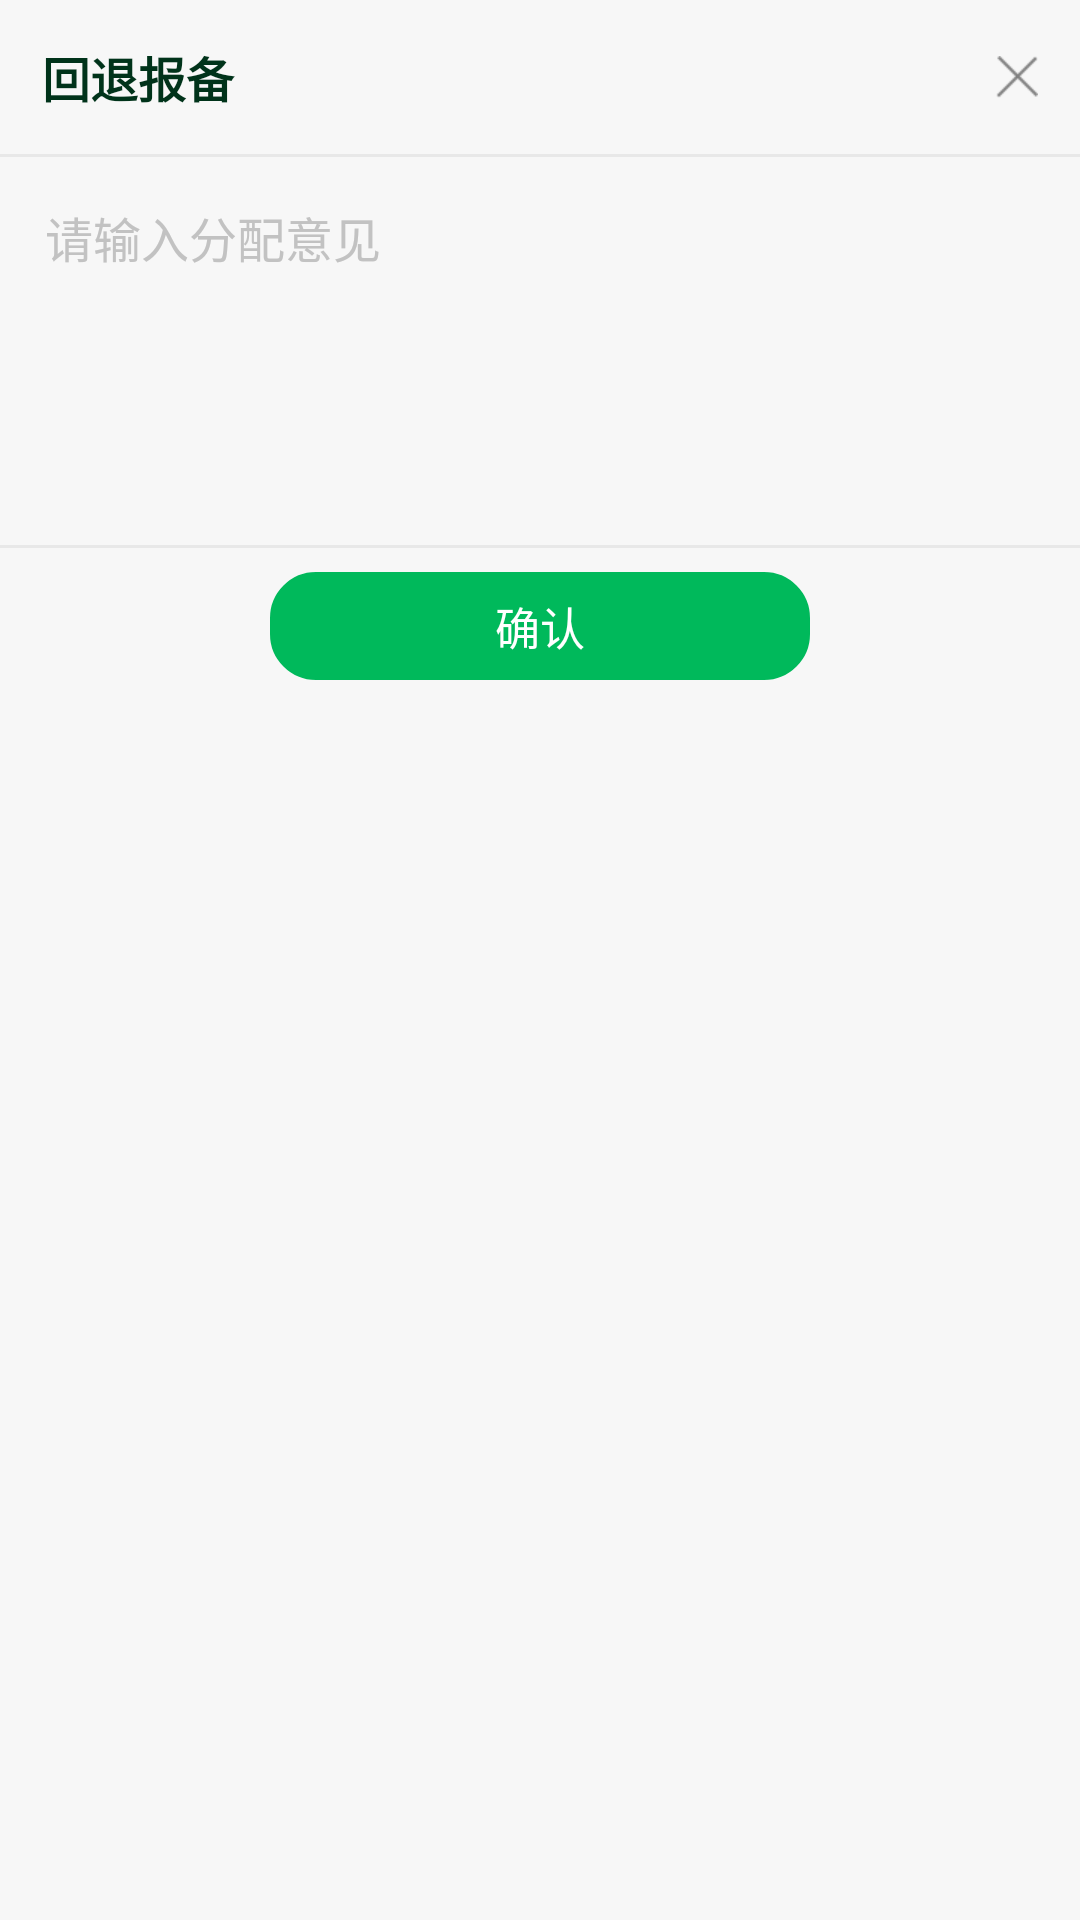

Icon click points for this 1080x1920 phone screenshot, format (x=x, y=y):
popup close: (x=1017, y=76)
